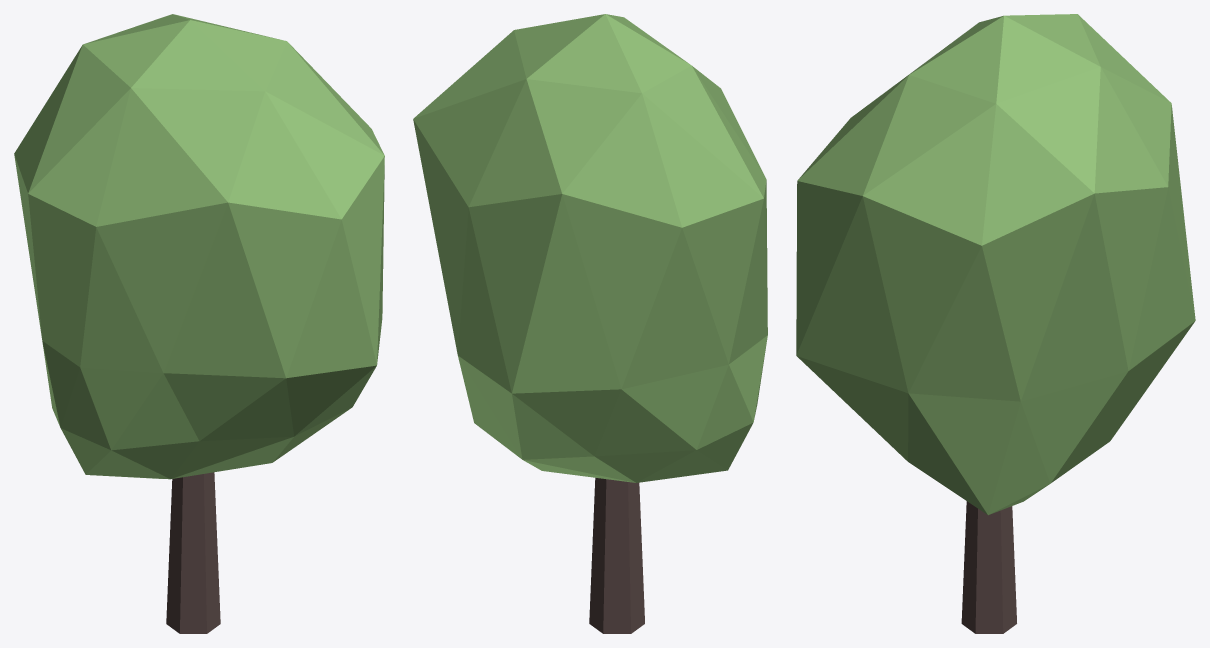
File: PR_treeVar2_01.fbx
3 renders of one model, left to right at view 1: azimuth 30°, elevation 25°; view 2: azimuth 150°, elevation 25°; view 3: azimuth 270°, elevation 25°, orthographic. The views are drawn at different scales.
Parts seen in each view (by area): view 1: Icosphere, PR_treeVar2_01; view 2: Icosphere, PR_treeVar2_01; view 3: Icosphere, PR_treeVar2_01.
Boxes of the visible parts, x1,y1,x2,y2 form: Icosphere: [14, 14, 384, 479]; PR_treeVar2_01: [166, 472, 220, 633]; Icosphere: [413, 14, 767, 482]; PR_treeVar2_01: [589, 478, 644, 633]; Icosphere: [796, 14, 1195, 515]; PR_treeVar2_01: [961, 501, 1016, 633].
Bounding box in the file's own units: 545 × 947 × 562.
